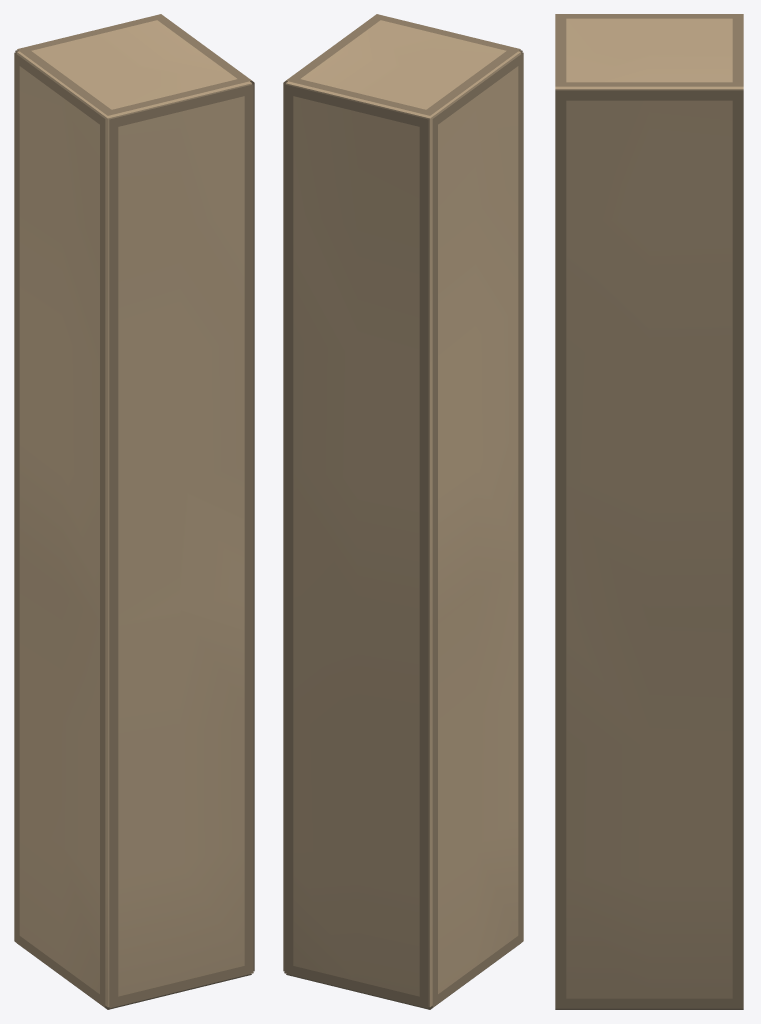
Rendered from key.glb.
3 views of the same model, side by side, from view 1: azimuth 30°, elevation 25°; view 2: azimuth 150°, elevation 25°; view 3: azimuth 270°, elevation 25° (orthographic). The views are drawn at different scales.
Visible parts, largest first — view 1: key; view 2: key; view 3: key.
Part boxes in pixels (x1=…): key: x1=14, y1=14, x2=254, y2=1009; key: x1=283, y1=14, x2=523, y2=1009; key: x1=555, y1=14, x2=743, y2=1009.
Bounding box in the file's own units: 0.0244 × 0.1397 × 0.0266.
